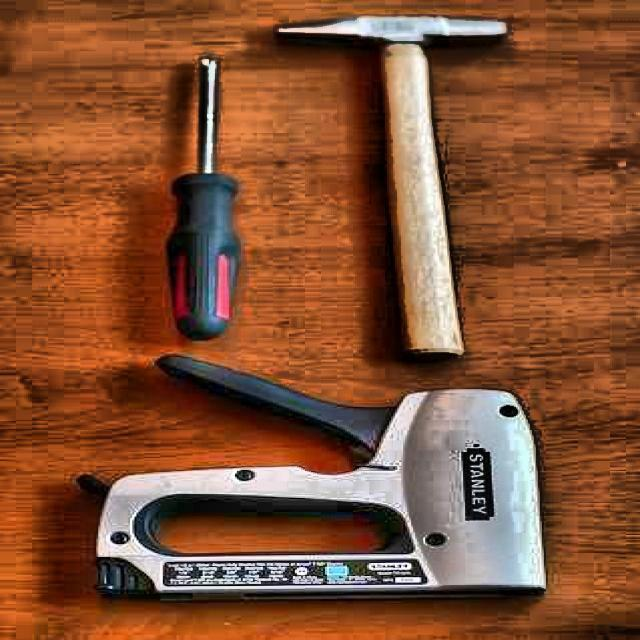hammer: (274, 6, 514, 362)
